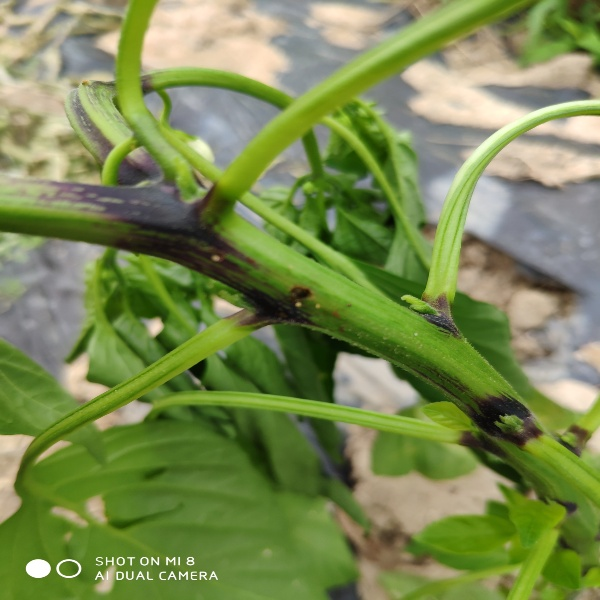blight: (1, 169, 225, 278), (63, 80, 166, 184), (225, 244, 310, 342), (461, 393, 543, 458), (412, 289, 467, 338)
